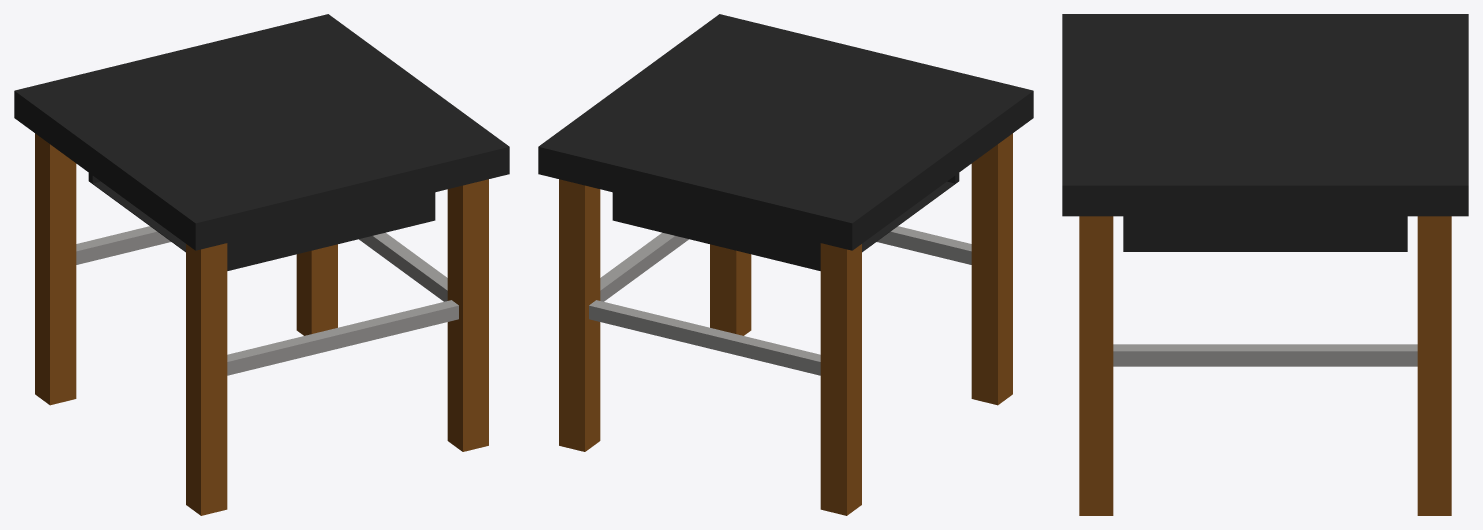
Rendered from Desk.fbx.
3 views of the same model, side by side, from view 1: azimuth 30°, elevation 25°; view 2: azimuth 150°, elevation 25°; view 3: azimuth 270°, elevation 25° (orthographic). The views are drawn at different scales.
Parts seen in each view (by area): view 1: Cube.004, Cube.001, Cube, Cube.003, Cube.005, Cube.002, Cube.006, Cube.007; view 2: Cube.004, Cube.003, Cube.002, Cube.001, Cube.007, Cube, Cube.006, Cube.005; view 3: Cube.004, Cube, Cube.002, Cube.006.
Part boxes in pixels (x1=…): Cube.004: x1=14, y1=14, x2=509, y2=270; Cube.001: x1=186, y1=243, x2=227, y2=515; Cube: x1=447, y1=179, x2=488, y2=451; Cube.003: x1=35, y1=133, x2=76, y2=405; Cube.005: x1=227, y1=300, x2=458, y2=375; Cube.002: x1=296, y1=244, x2=337, y2=335; Cube.006: x1=359, y1=232, x2=447, y2=301; Cube.007: x1=76, y1=226, x2=170, y2=264; Cube.004: x1=538, y1=14, x2=1033, y2=270; Cube.003: x1=820, y1=243, x2=861, y2=515; Cube.002: x1=559, y1=179, x2=600, y2=451; Cube.001: x1=971, y1=133, x2=1012, y2=405; Cube.007: x1=589, y1=300, x2=820, y2=375; Cube: x1=710, y1=244, x2=751, y2=335; Cube.006: x1=600, y1=232, x2=688, y2=301; Cube.005: x1=877, y1=226, x2=971, y2=264; Cube.004: x1=1062, y1=14, x2=1468, y2=251; Cube: x1=1079, y1=216, x2=1113, y2=515; Cube.002: x1=1417, y1=216, x2=1451, y2=515; Cube.006: x1=1113, y1=344, x2=1417, y2=366.
Bounding box in the file's own units: 240 × 220 × 240.
